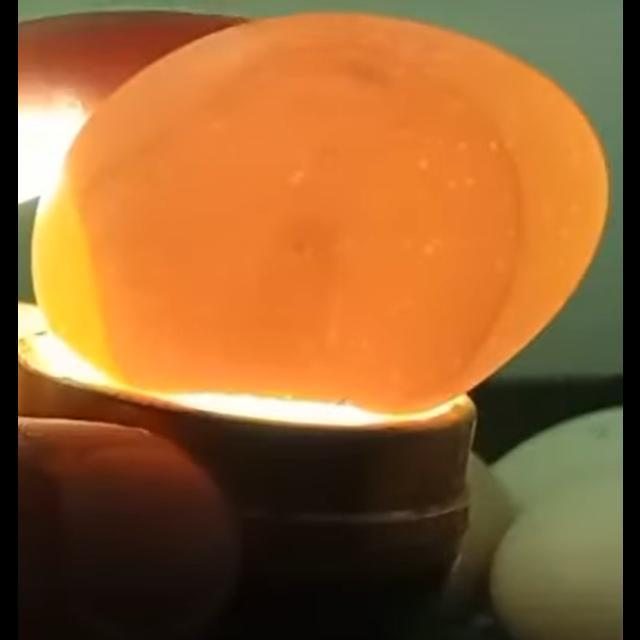Infertile: (28, 7, 614, 440)
